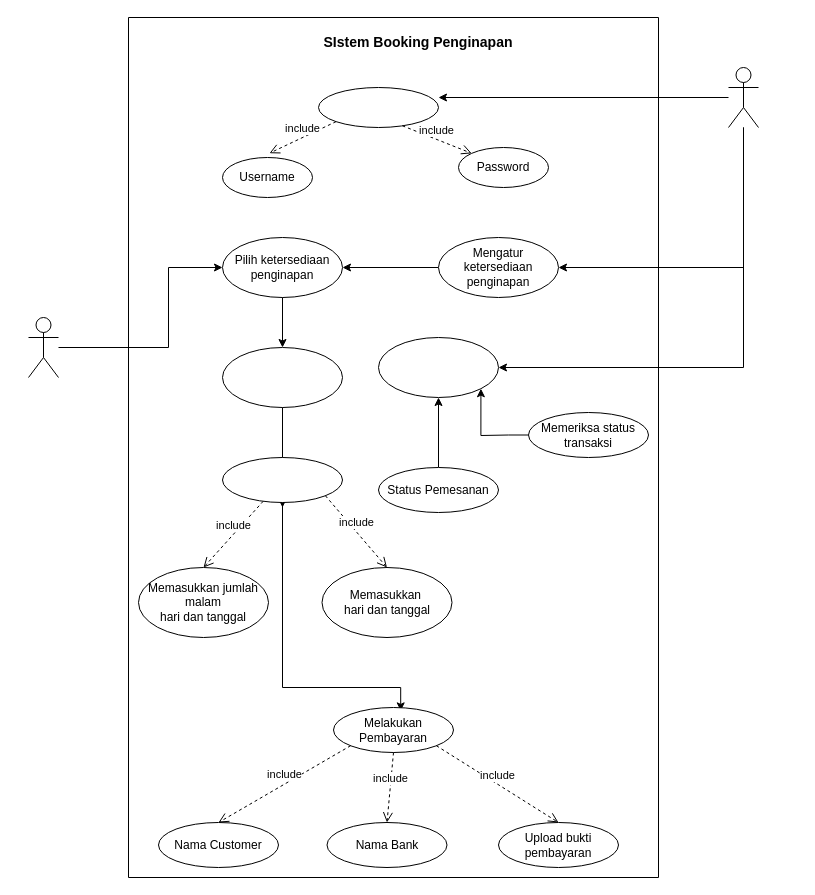
Some shapes in this 815 by 895 pixel diagram are drawn without their labels. Each missing label, with the box of its shape:
Customer: (28, 316, 58, 378)
Login: (318, 86, 438, 128)
Melakukan pemesanan: (222, 456, 342, 502)
Melihat detail penginapan: (222, 346, 342, 408)
Membuat laporan: (378, 336, 498, 398)
Sistem Administrator: (728, 66, 758, 128)
